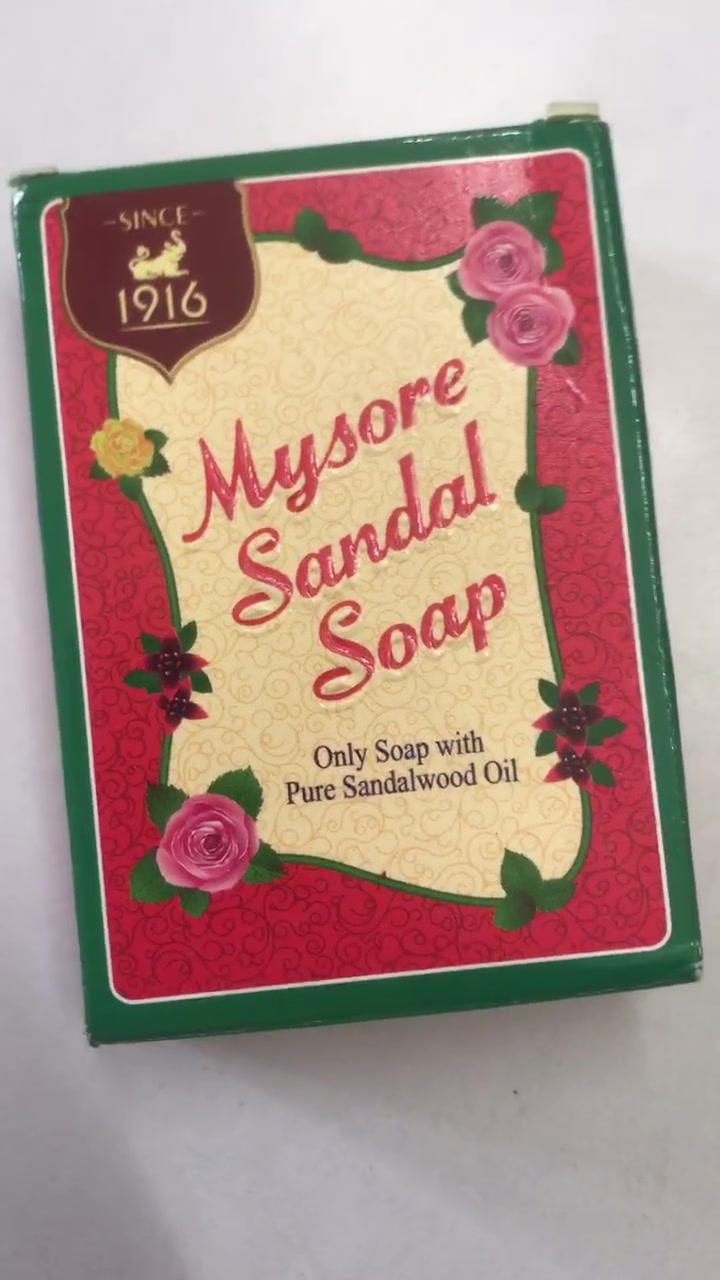mysore sandal soap: (21, 134, 706, 1042)
